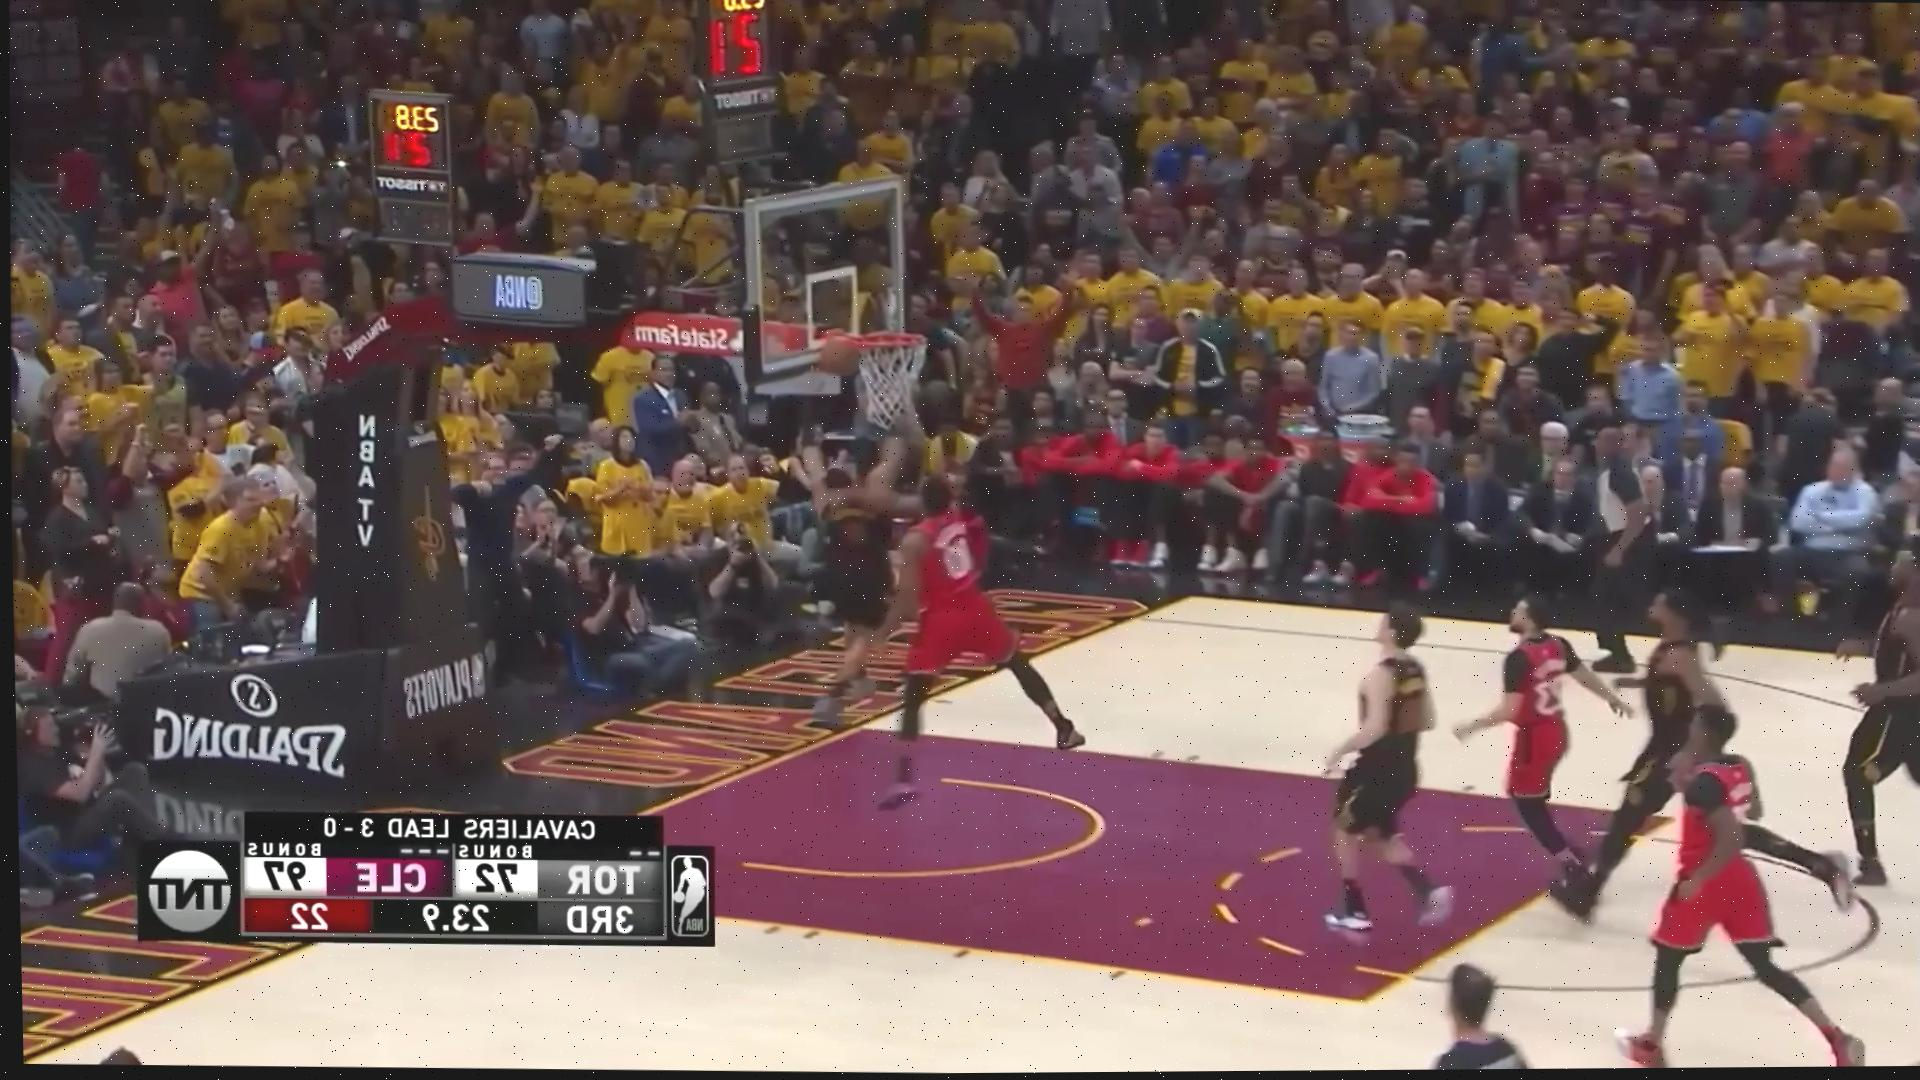foul: (796, 405, 1058, 758)
